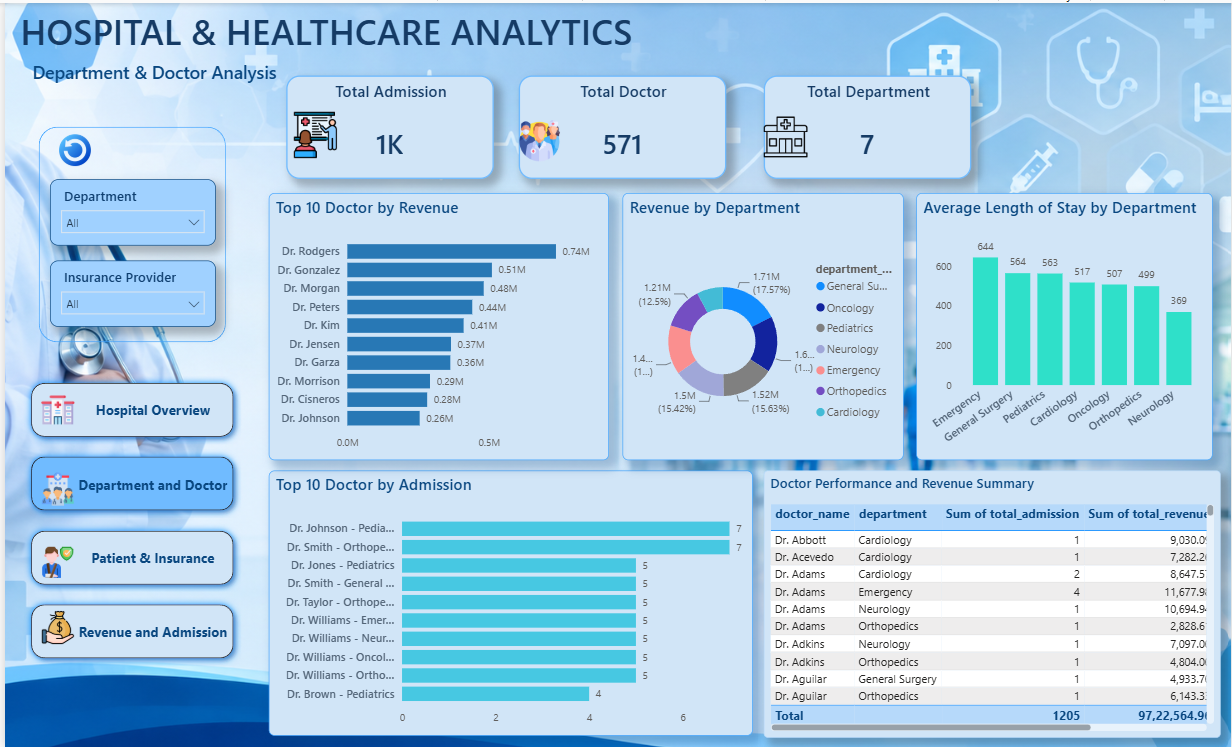

This screenshot's page, from the dashboard's own definition file:
{"tool":"powerbi","page":{"name":"Department and Doctor","canvas":[1480,900],"ordinal":1},"visuals":[{"type":"shape","box":[41.4,148.6,225.7,260],"z":0},{"type":"textbox","box":[13,0,901.4,85],"z":1000},{"type":"textbox","box":[13,63.8,333.3,44.9],"z":2000},{"type":"cardVisual","title":"Total Admission","fields":{"Data":["hospital_overview admission.Total Admissions"]},"box":[339.3,87.5,250,125],"z":3000},{"type":"cardVisual","title":"Total Doctor","fields":{"Data":["hospital_overview admission.Total Doctors"]},"box":[619.8,87.5,250,125],"z":4000},{"type":"cardVisual","title":"Total Department","fields":{"Data":["hospital_overview admission.Total Departments"]},"box":[915.4,87.5,250,125],"z":5000},{"type":"clusteredBarChart","title":"Top 10 Doctor by Admission","fields":{"Category":["hospital_overview top10_doctor_by_dep.Doctor Department"],"Y":["hospital_overview top10_doctor_by_dep.Doctor Department Admissions"]},"box":[318.2,563.6,584.1,320.3],"z":6000},{"type":"donutChart","title":"Revenue by Department","fields":{"Category":["hospital_overview revenue_by_depart.department_name"],"Y":["Sum(hospital_overview revenue_by_depart.total_revenue)"]},"box":[745.5,228.8,339.4,322.7],"z":7000},{"type":"clusteredBarChart","title":"Top 10 Doctor by Revenue","fields":{"Category":["hospital_overview revenue_by_doc.doctor_name"],"Y":["Sum(hospital_overview revenue_by_doc.total_revenue)"]},"box":[318.2,228.8,410.6,322.7],"z":8000},{"type":"clusteredColumnChart","title":"Average Length of Stay by Department","fields":{"Y":["Sum(hospital_overview average_length_of_stay_by_dept.average_stay_days)"],"Category":["hospital_overview average_length_of_stay_by_dept.department"]},"box":[1100,228.8,357.6,322.7],"z":9000},{"type":"tableEx","title":"Doctor Performance and Revenue Summary","fields":{"Values":["hospital_overview doctor_analys.doctor_name","hospital_overview doctor_analys.department","Sum(hospital_overview doctor_analys.total_admission)","Sum(hospital_overview doctor_analys.total_revenue)","Sum(hospital_overview doctor_analys.average_revenue)"]},"box":[915.2,563.6,551.5,322.7],"z":10000},{"type":"pageNavigator","box":[22.9,450,262.1,350],"z":11000},{"type":"image","box":[619.8,135.7,50,60.6],"z":12000},{"type":"image","box":[915.4,131.2,53,60.6],"z":13000},{"type":"image","box":[339.3,131.2,69.7,56.1],"z":14000},{"type":"slicer","fields":{"Values":["hospital_overview admission.dept"]},"box":[54.3,212.9,200,80],"z":15000},{"type":"slicer","fields":{"Values":["hospital_overview patient.insurance"]},"box":[54.3,310,200,80],"z":16000},{"type":"image","box":[44.3,462.9,40,55.7],"z":17000},{"type":"image","box":[44.3,564.3,40,44.3],"z":18000},{"type":"image","box":[44.3,651.4,40,47.1],"z":19000},{"type":"image","box":[44.3,724.3,40,58.6],"z":20000},{"type":"image","box":[45.7,158.6,78.6,38.6],"z":21000}]}

Visuals, with their boxes in screenshot pixels (x1, y1, x2, y2), scaled from the page's 1480x900 canvas onto the 1232x747 screenshot:
shape: bbox(34, 123, 222, 339)
textbox: bbox(11, 0, 761, 71)
textbox: bbox(11, 53, 288, 90)
"Total Admission" cardVisual: bbox(282, 73, 491, 176)
"Total Doctor" cardVisual: bbox(516, 73, 724, 176)
"Total Department" cardVisual: bbox(762, 73, 970, 176)
"Top 10 Doctor by Admission" clusteredBarChart: bbox(265, 468, 751, 734)
"Revenue by Department" donutChart: bbox(621, 190, 903, 458)
"Top 10 Doctor by Revenue" clusteredBarChart: bbox(265, 190, 607, 458)
"Average Length of Stay by Department" clusteredColumnChart: bbox(916, 190, 1213, 458)
"Doctor Performance and Revenue Summary" tableEx: bbox(762, 468, 1221, 736)
pageNavigator: bbox(19, 374, 237, 664)
image: bbox(516, 113, 558, 163)
image: bbox(762, 109, 806, 159)
image: bbox(282, 109, 340, 155)
slicer - hospital_overview admission.dept: bbox(45, 177, 212, 243)
slicer - hospital_overview patient.insurance: bbox(45, 257, 212, 324)
image: bbox(37, 384, 70, 430)
image: bbox(37, 468, 70, 505)
image: bbox(37, 541, 70, 580)
image: bbox(37, 601, 70, 650)
image: bbox(38, 132, 103, 164)
